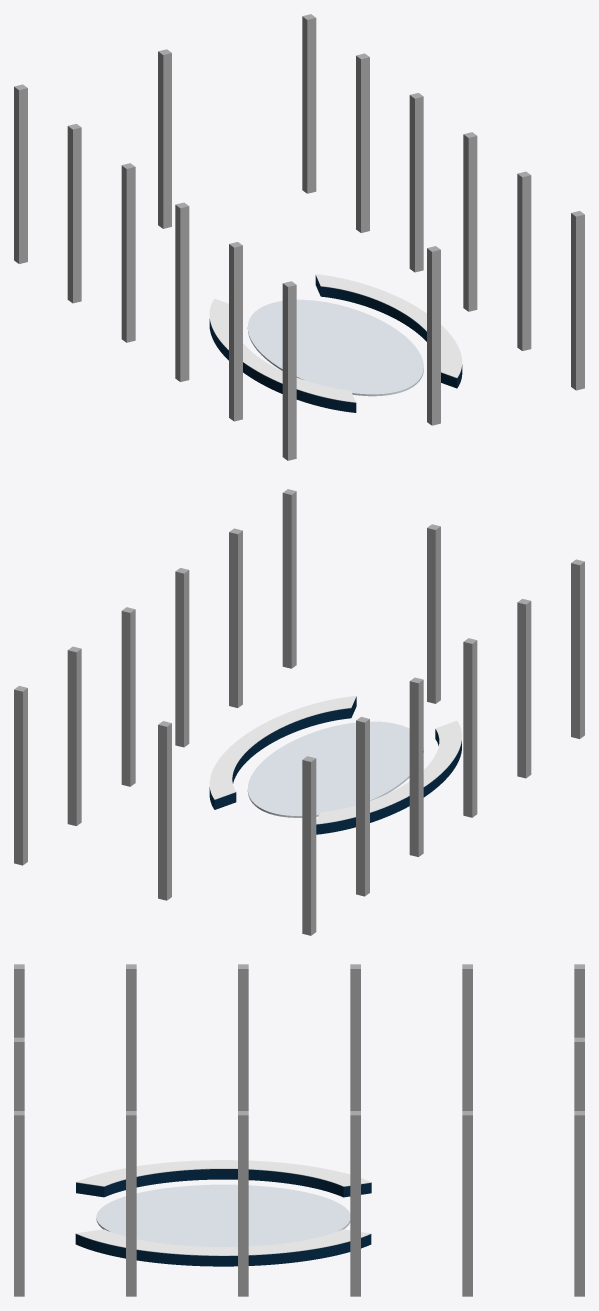
File: 鲸鱼馆大厅.fbx_其他_不用导出的_.fbx
3 renders of one model, top to bottom at view 1: azimuth 30°, elevation 25°; view 2: azimuth 150°, elevation 25°; view 3: azimuth 270°, elevation 25°, orthographic. The views are drawn at different scales.
Parts seen in each view (by area): view 1: 凸起, 左边, 右边, Mesh_0.006, Mesh_0.007, Mesh_0.001, Mesh_0.005, Mesh_0.008, Mesh_0.012, Mesh_0.004, Mesh_0.009, Mesh_0.013 (+5 smaller); view 2: 凸起, 左边, 右边, Mesh_0.005, Mesh_0.008, Mesh_0.002, Mesh_0.006, Mesh_0.007, Mesh_0.011, Mesh_0.003, Mesh_0.010, Mesh_0.013 (+5 smaller); view 3: 凸起, 左边, 右边, Mesh_0.002, Mesh_0.004, Mesh_0.006, Mesh_0.008, Mesh_0.010, Mesh_0.012, Mesh_0.003, Mesh_0.005, Mesh_0.007 (+5 smaller).
Part boxes in pixels (box(x1,y1,x2,y2)): 凸起: box(247, 299, 423, 396); 左边: box(315, 274, 462, 388); 右边: box(209, 298, 356, 412); Mesh_0.006: box(463, 132, 477, 311); Mesh_0.007: box(121, 163, 135, 342); Mesh_0.001: box(282, 281, 296, 460); Mesh_0.005: box(175, 202, 189, 381); Mesh_0.008: box(409, 93, 423, 272); Mesh_0.012: box(302, 14, 316, 193); Mesh_0.004: box(517, 171, 531, 350); Mesh_0.009: box(67, 124, 81, 303); Mesh_0.013: box(427, 246, 440, 425); 凸起: box(247, 721, 423, 817); 左边: box(209, 696, 356, 809); 右边: box(316, 720, 461, 834); Mesh_0.005: box(463, 638, 477, 817); Mesh_0.008: box(121, 607, 135, 786); Mesh_0.002: box(282, 489, 296, 668); Mesh_0.006: box(175, 568, 189, 747); Mesh_0.007: box(409, 677, 423, 856); Mesh_0.011: box(302, 756, 316, 935); Mesh_0.003: box(517, 599, 531, 778); Mesh_0.010: box(67, 646, 81, 825); Mesh_0.013: box(427, 524, 440, 703); 凸起: box(96, 1184, 350, 1246); 左边: box(75, 1229, 371, 1266); 右边: box(76, 1160, 371, 1197); Mesh_0.002: box(14, 1111, 24, 1296); Mesh_0.004: box(126, 1111, 136, 1296); Mesh_0.006: box(238, 1111, 248, 1296); Mesh_0.008: box(350, 1111, 360, 1296); Mesh_0.010: box(462, 1111, 472, 1296); Mesh_0.012: box(574, 1111, 584, 1296); Mesh_0.003: box(126, 964, 136, 1110); Mesh_0.005: box(238, 964, 248, 1110); Mesh_0.007: box(350, 964, 360, 1110).
Bounding box in the file's own units: 2680 × 1499 × 4280.
